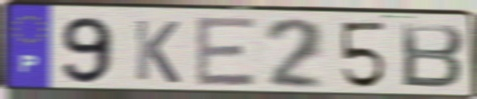2: (262, 16, 329, 91)
5: (338, 20, 389, 90)
9: (59, 15, 117, 87)
B: (398, 21, 467, 91)
E: (193, 14, 260, 90)
K: (132, 17, 183, 86)
